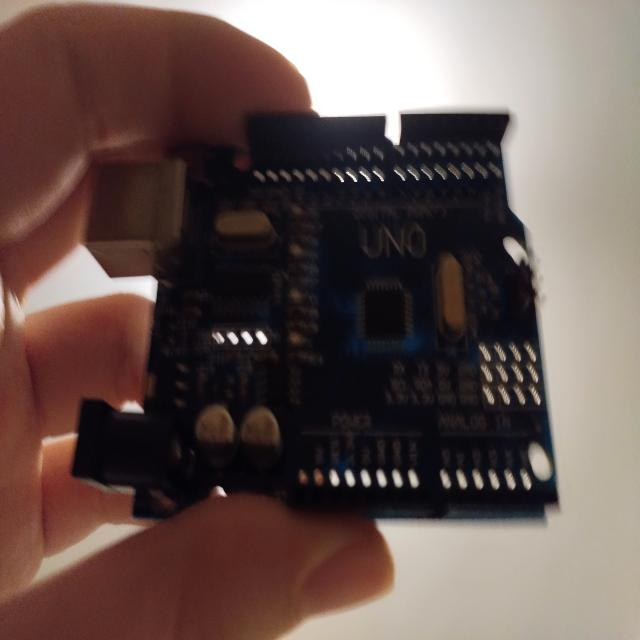arduino: (86, 111, 561, 530)
